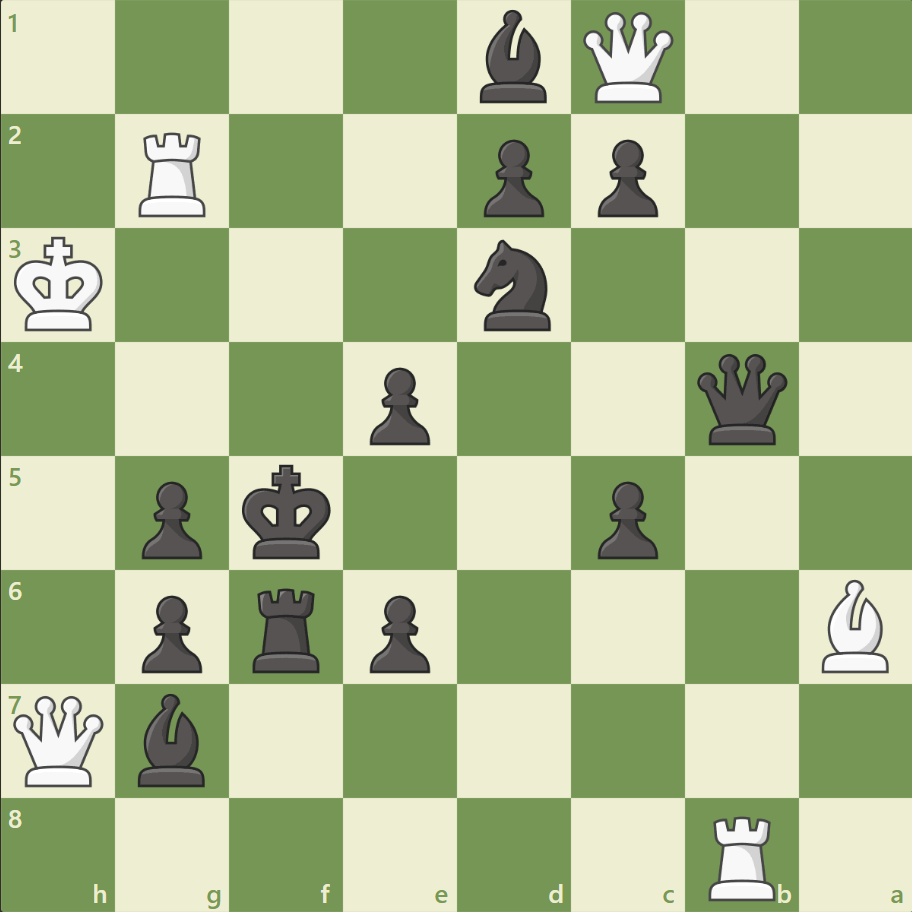B: (812, 574, 896, 676)
K: (11, 231, 111, 339)
Q: (10, 690, 109, 789), (578, 9, 677, 108)
R: (700, 806, 783, 904), (133, 125, 215, 222)
b: (131, 687, 215, 790), (471, 6, 555, 109)
k: (238, 458, 338, 566)
n: (465, 234, 562, 337)
p: (133, 586, 208, 677), (133, 473, 208, 564), (474, 132, 549, 223), (361, 586, 435, 677), (588, 473, 662, 564), (361, 359, 435, 450), (588, 132, 662, 223)
q: (691, 349, 790, 449)
r: (246, 579, 329, 676)
